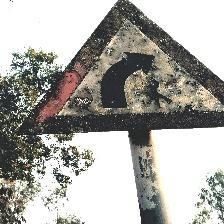Right-turn: (19, 0, 222, 133)
